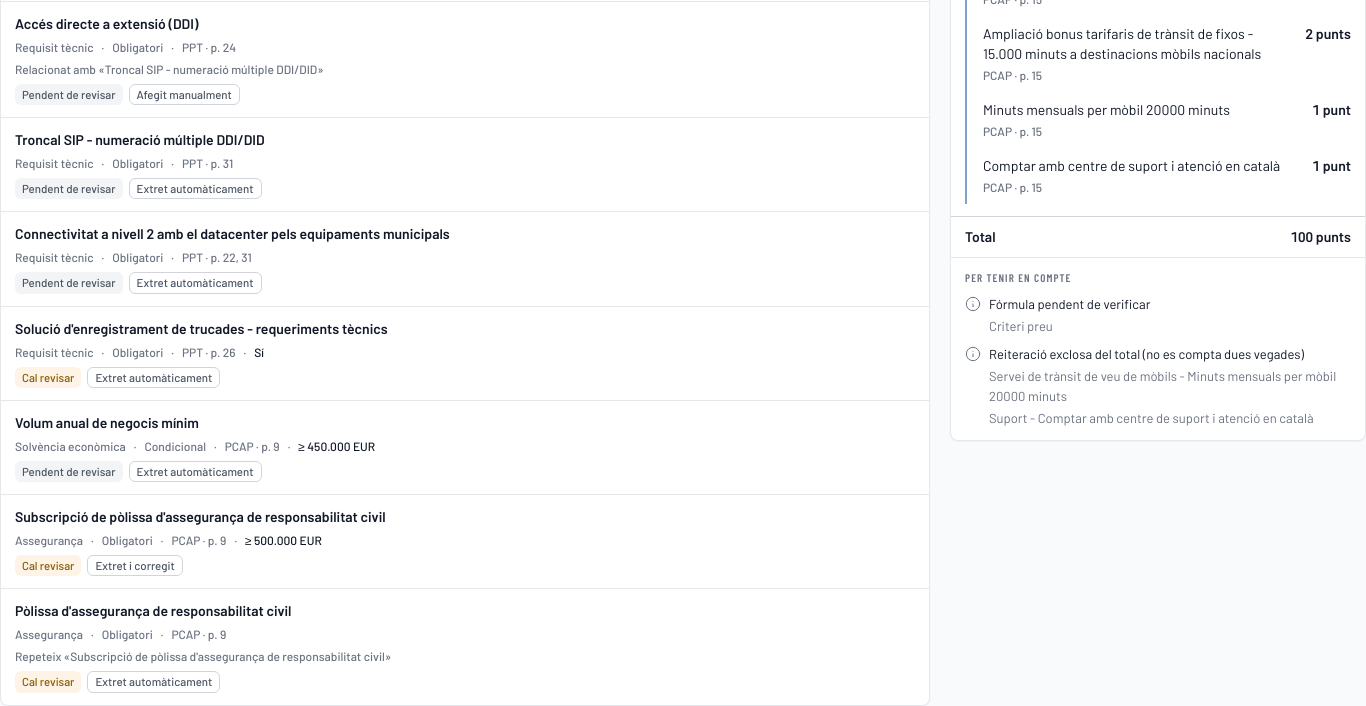
it: Duplicats i reiteracions a la llista › el detall arriba al duplicat plegat i en diu la relació
This screenshot has width=1366, height=706.
(page scrolled)
Step 1. Click the 8th button → (153, 611), box [1, 589, 929, 705]
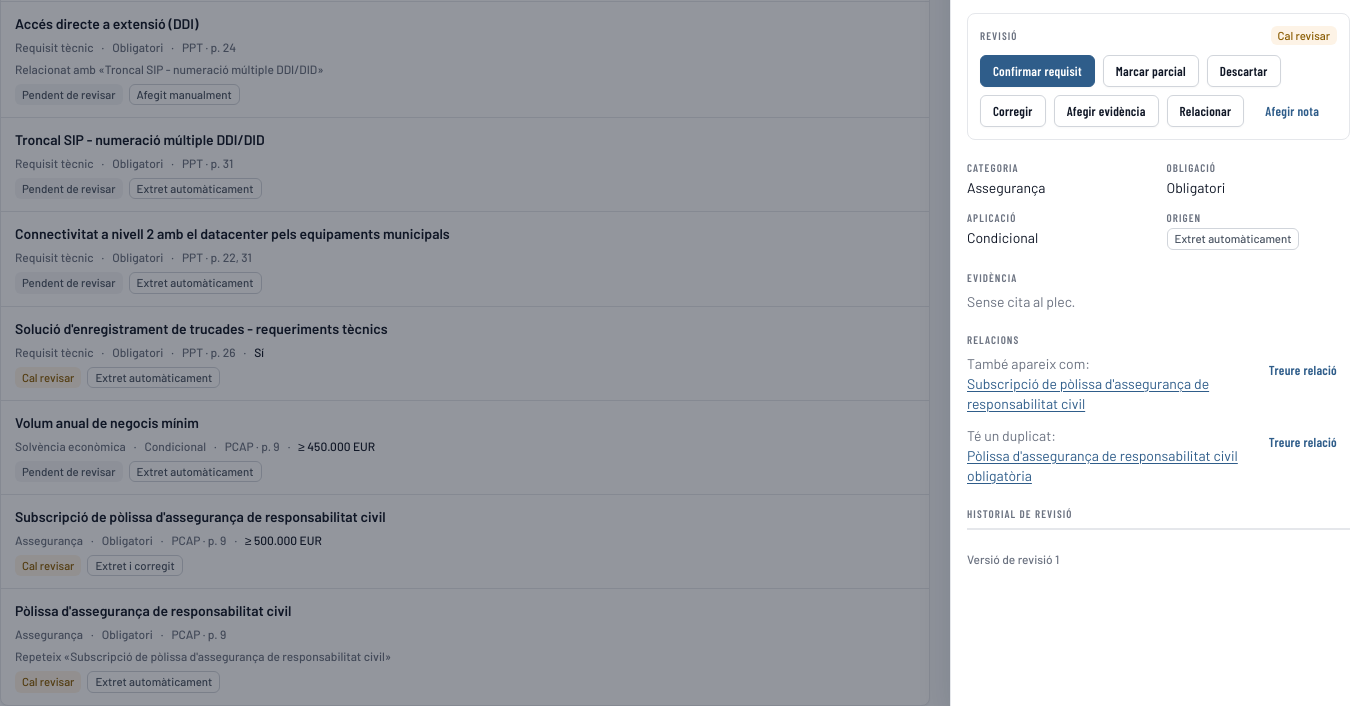
Expected: the text "També apareix com:" is shown, [967, 354, 1090, 372]
Expected: the text "Té un duplicat:" is shown, [967, 426, 1056, 444]
Step 2. Click the button "Pòlissa d'assegurança de responsabilitat civil obligatòria" → (1107, 466), box [967, 446, 1248, 486]
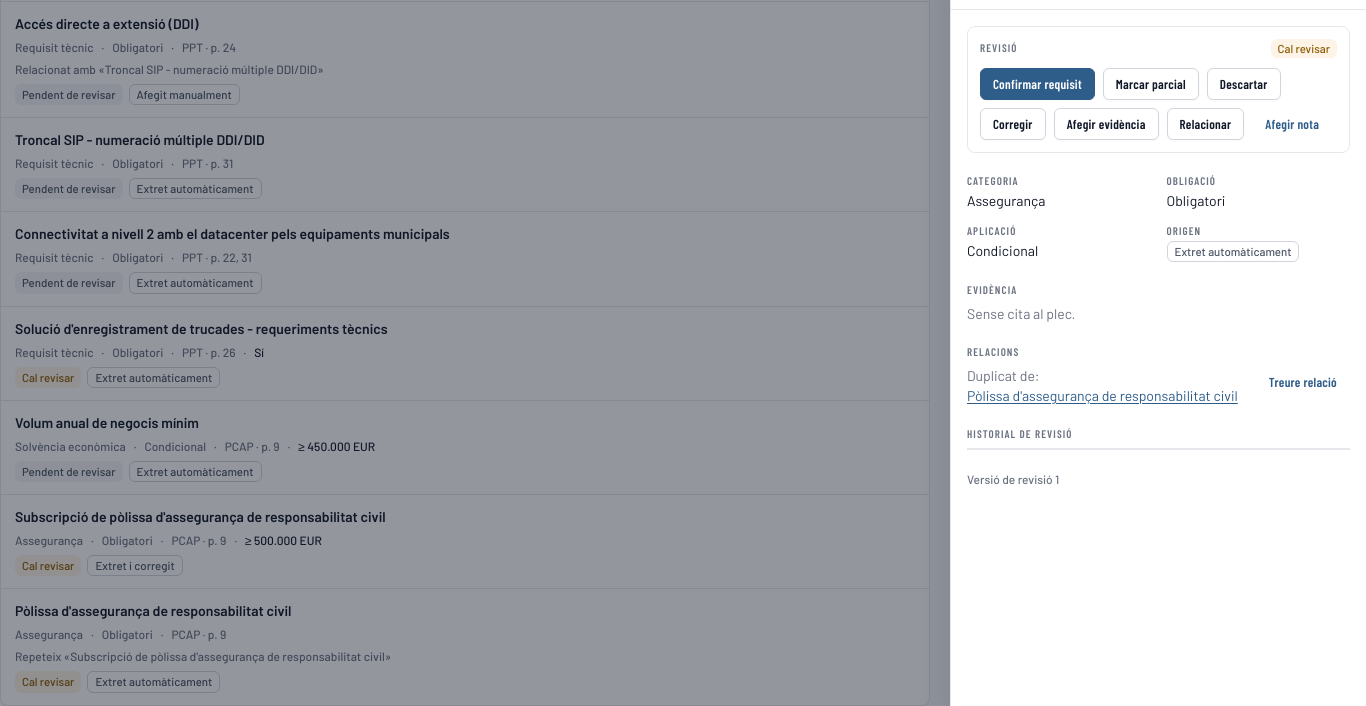
Expected: the text "Duplicat de:" is shown, [967, 367, 1040, 384]
